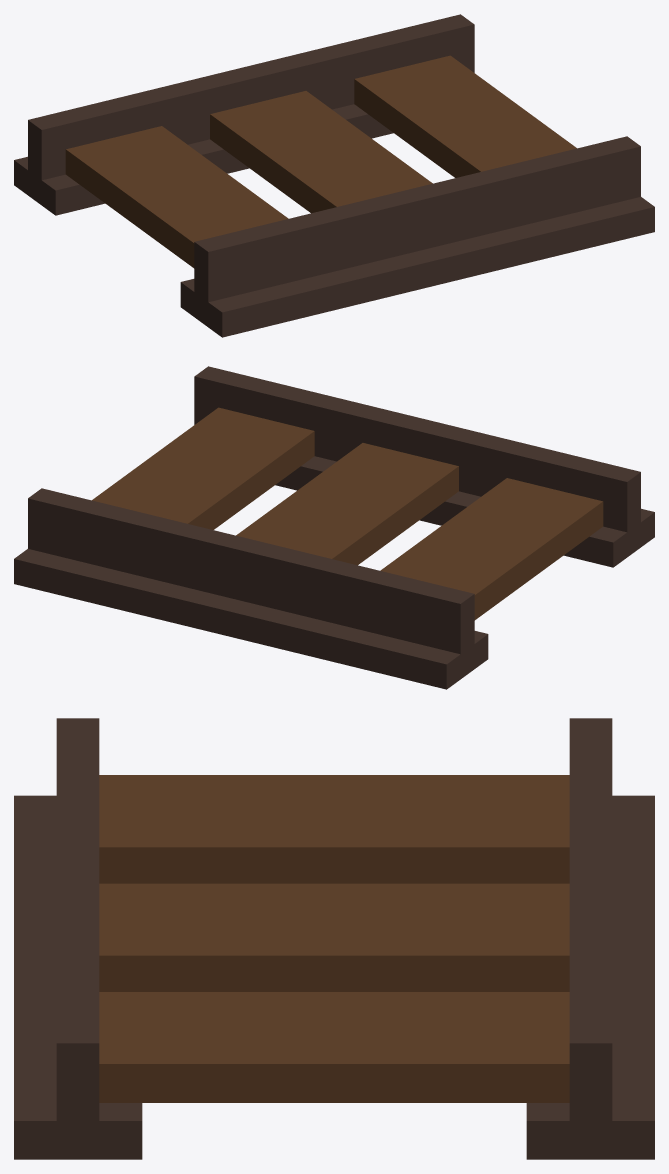
Rendered from bat-1.obj.
3 renders of one model, top to bottom at view 1: azimuth 30°, elevation 25°; view 2: azimuth 150°, elevation 25°; view 3: azimuth 270°, elevation 25°, orthographic. The views are drawn at different scales.
Bounding box in the file's own units: 1.8 × 0.3 × 1.5.
Materials: 1 (1 with a texture image).
